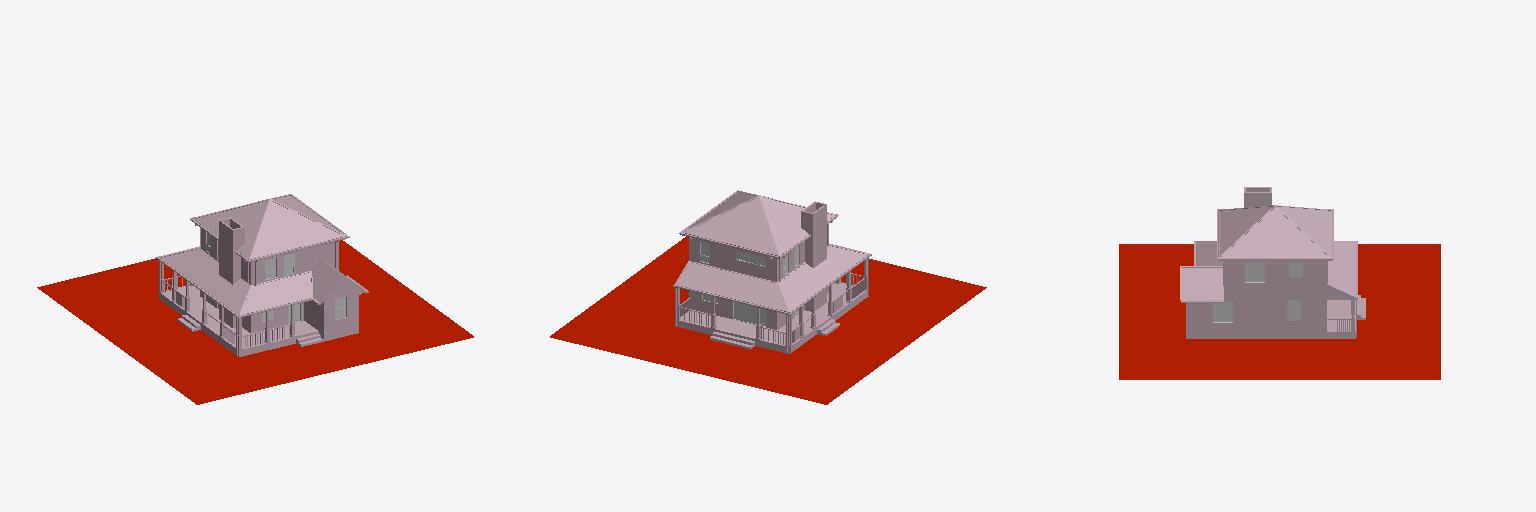
Rendered from house.obj.
3 views of the same model, side by side, from view 1: azimuth 30°, elevation 25°; view 2: azimuth 150°, elevation 25°; view 3: azimuth 270°, elevation 25° (orthographic).
Parts seen in each view (by area): view 1: Plane, 247_House_15_obj.001; view 2: Plane, 247_House_15_obj.001; view 3: Plane, 247_House_15_obj.001.
Boxes of the visible parts, x1,y1,x2,y2 form: Plane: [37, 240, 473, 404]; 247_House_15_obj.001: [156, 194, 368, 356]; Plane: [550, 236, 986, 404]; 247_House_15_obj.001: [673, 190, 871, 353]; Plane: [1119, 244, 1440, 379]; 247_House_15_obj.001: [1180, 187, 1365, 338].
Bounding box in the file's own units: 24.6 × 9.52 × 24.6.